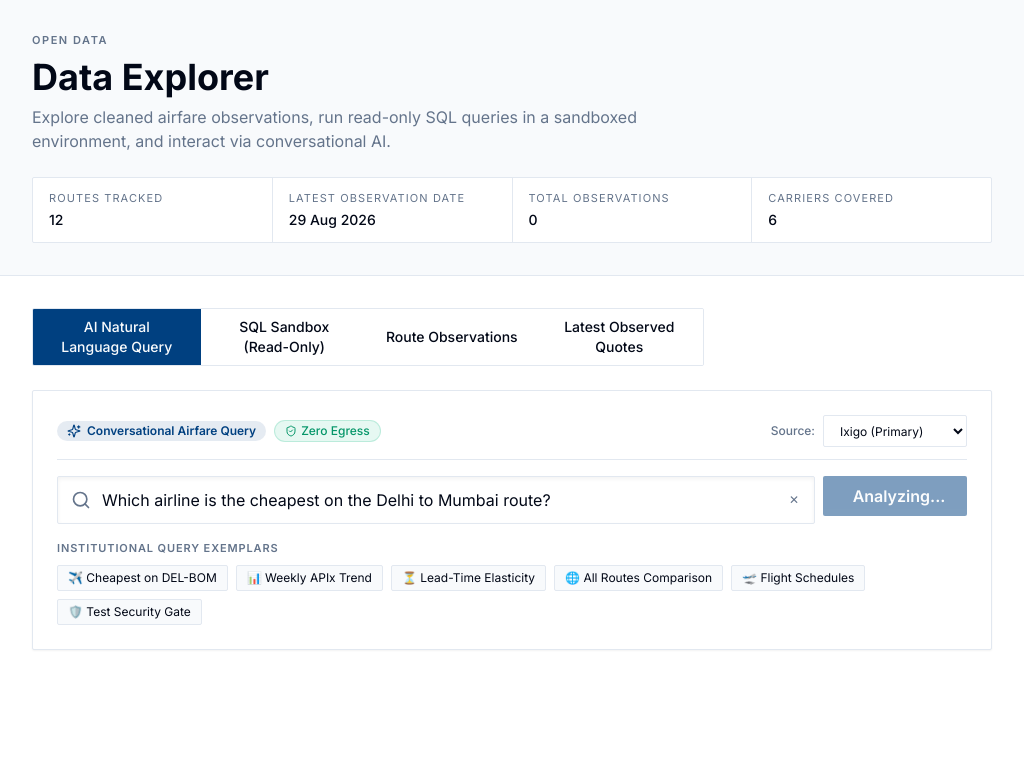
Test: DataExplorer Page with Integrated AI Query & SQL Sandbox › switches to Route Observations tab
Click the tab "Route Observations" at (452, 337), box [368,309,536,365]
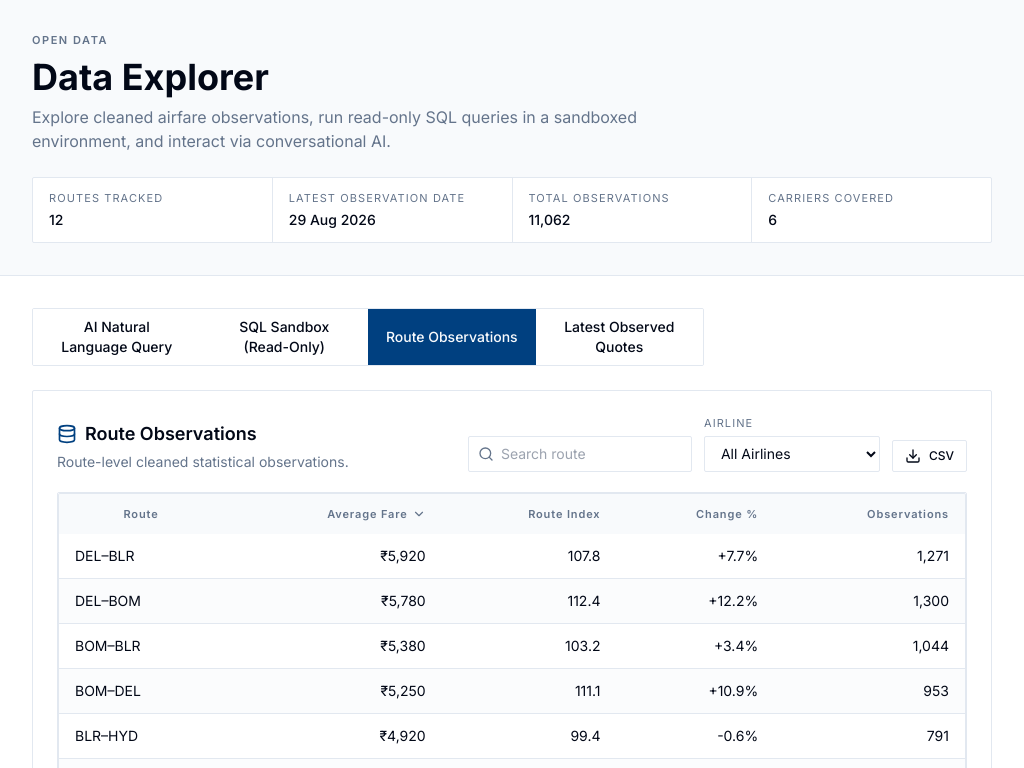
Now the heading "Route Observations" is shown, box [57,422,257,444]
Now the search field with placeholder "Search route" is shown, box [468,436,692,472]
